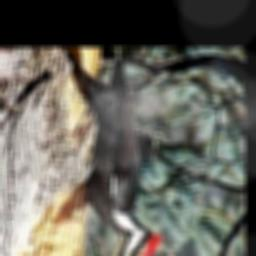Woodpecker: (65, 48, 160, 256)
